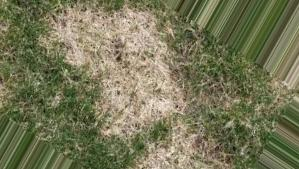patch: (72, 17, 157, 50), (105, 55, 171, 92), (119, 97, 164, 115)
